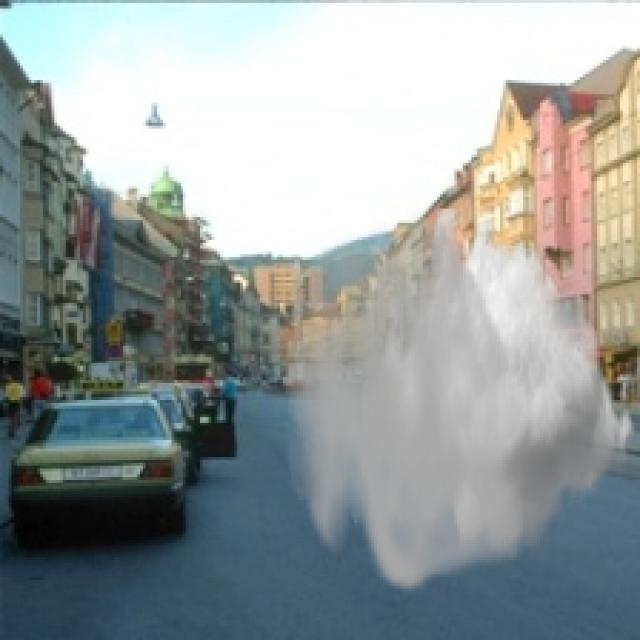Smoke: (282, 208, 638, 598)
